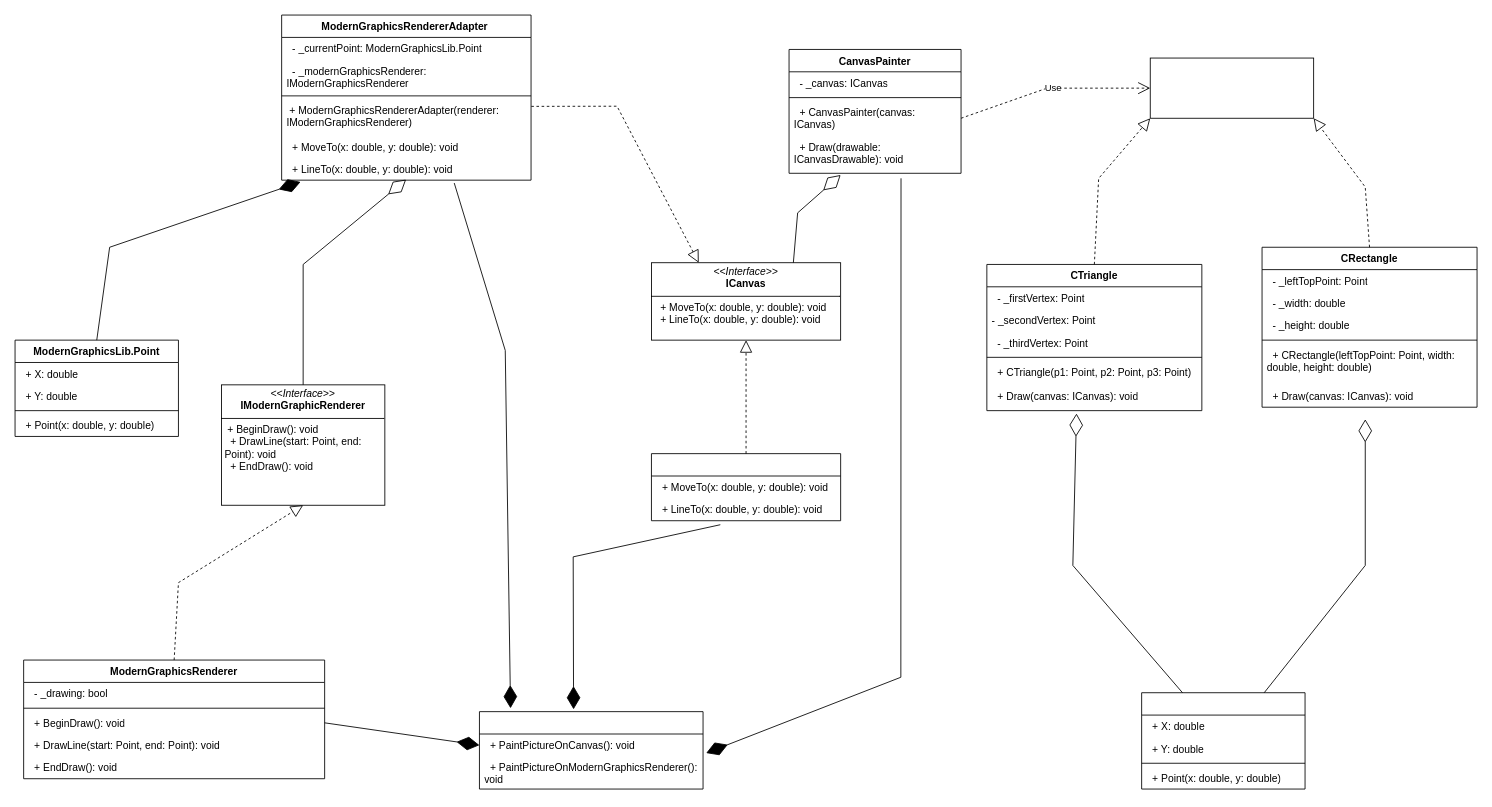
Image size: 1492x807. Some labels were removed from this diagram. The shapes that lost their labels are listed below. From the top down, each one's box as (x1, y1, x2, y2) in pixels, then its label:
(1149, 57, 1314, 118): <<Interface>> ICanvasDrawable + Draw(canvas: ICanvas): void
(651, 453, 841, 521): CCanvas
(479, 711, 703, 789): PicturePainter
(1141, 692, 1305, 789): ShapeDrawingLib.Point
